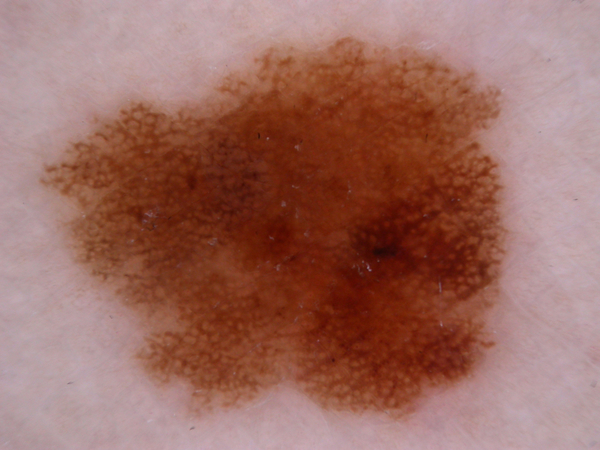Detected Lesion: (38, 33, 516, 424)
